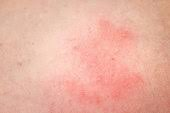herpes: (26, 8, 160, 100)
